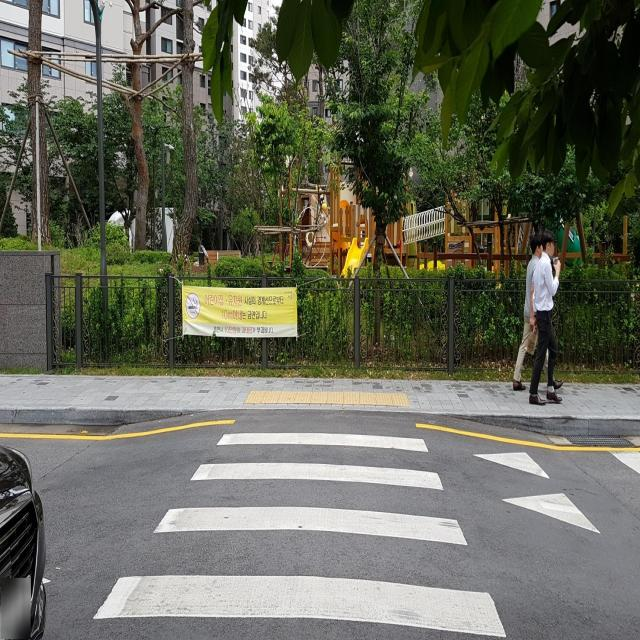횡단보도: (90, 430, 508, 640)
